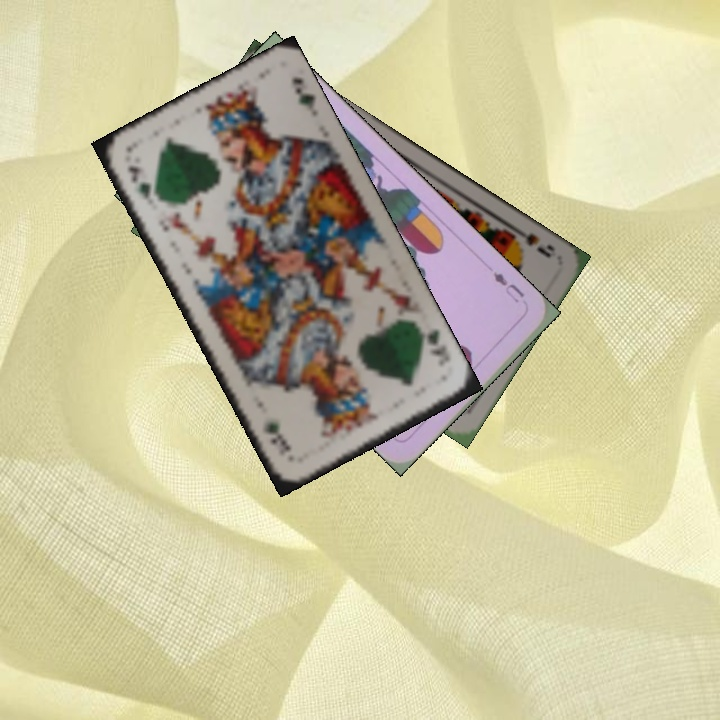EU: (488, 267, 528, 306)
GK: (414, 324, 454, 369), (124, 161, 154, 208)
S9: (505, 221, 558, 260)
